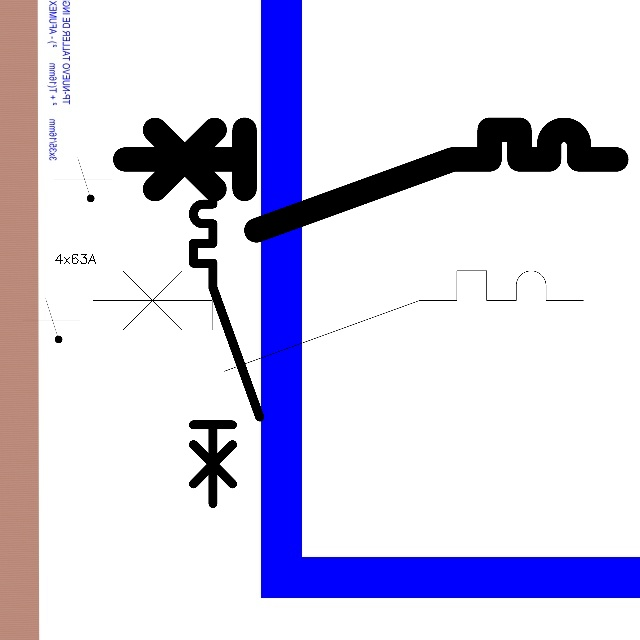interruptor_termomagnetico: (112, 117, 628, 243), (80, 258, 596, 384), (185, 171, 268, 512)
